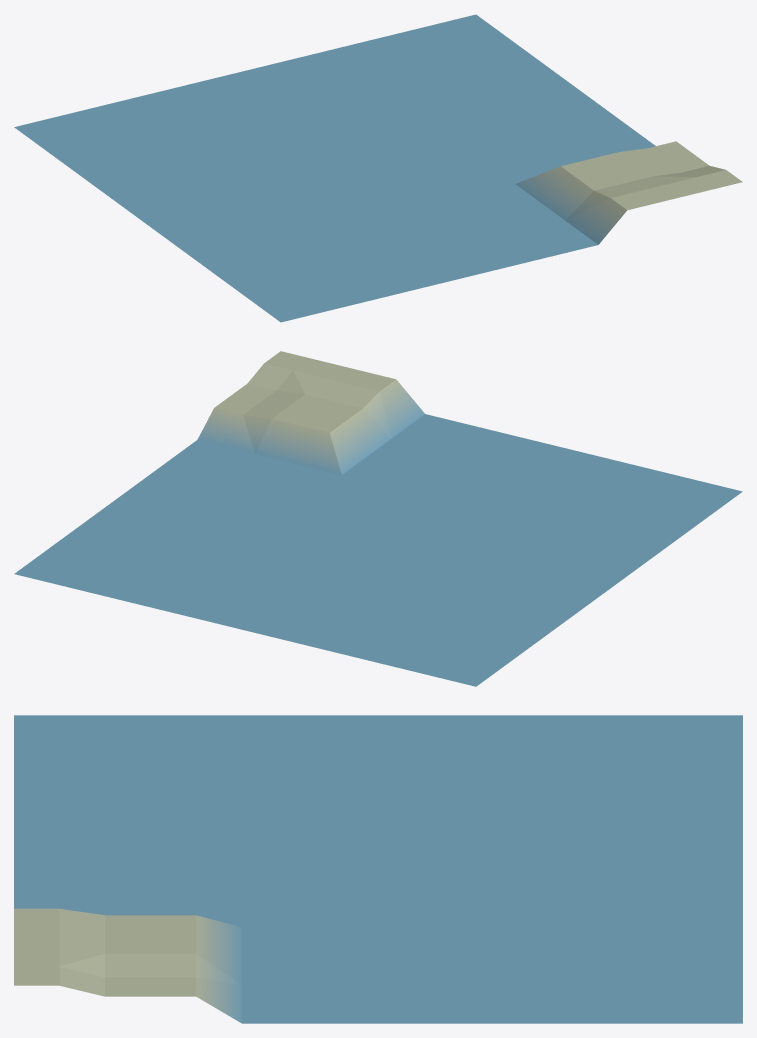
3 renders of one model, top to bottom at view 1: azimuth 30°, elevation 25°; view 2: azimuth 150°, elevation 25°; view 3: azimuth 270°, elevation 25°, orthographic. The views are drawn at different scales.
Size of the model in its own units: 32 by 1.83 by 32.
